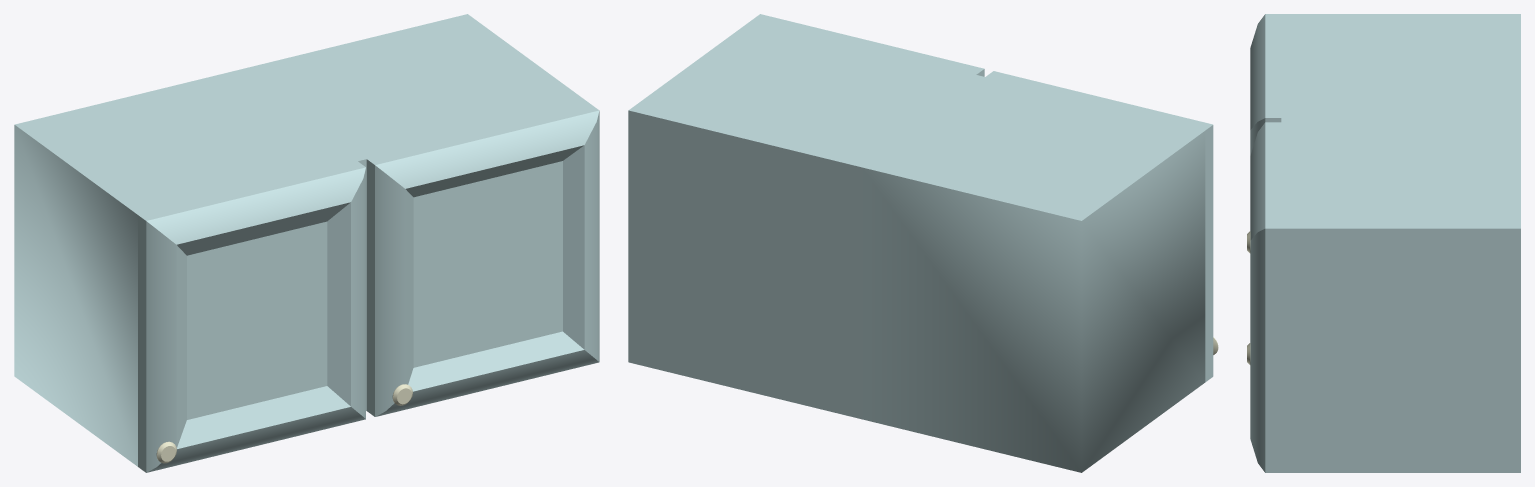
File: Tana.fbx
3 views of the same model, side by side, from view 1: azimuth 30°, elevation 25°; view 2: azimuth 150°, elevation 25°; view 3: azimuth 270°, elevation 25° (orthographic). The views are drawn at different scales.
Parts seen in each view (by area): view 1: polySurface58; view 2: polySurface58; view 3: polySurface58.
Boxes of the visible parts, x1,y1,x2,y2 form: polySurface58: (14,14,599,472); polySurface58: (628,14,1213,472); polySurface58: (1250,14,1520,472).
Size of the model in its own units: 645 by 343 by 348.
